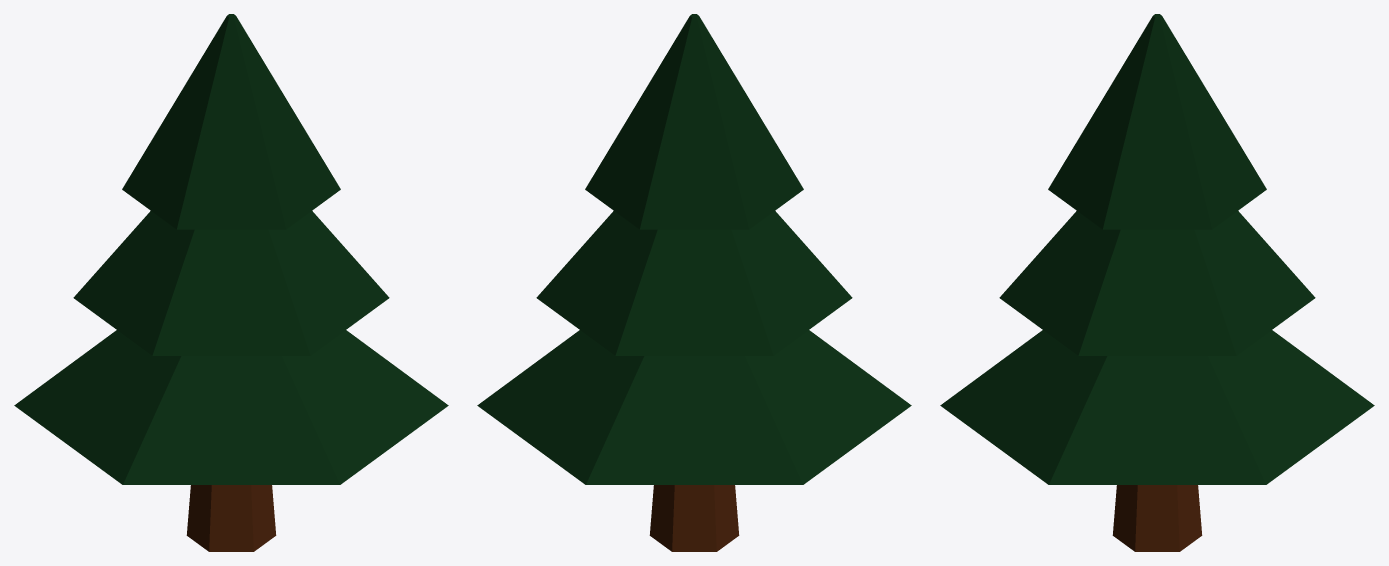
File: pine_tree.obj
The picture shows the model from 3 angles, left to right: view 1: azimuth 30°, elevation 25°; view 2: azimuth 150°, elevation 25°; view 3: azimuth 270°, elevation 25°; orthographic projection.
Parts seen in each view (by area): view 1: Cylinder_Cylinder_Leaves, Cylinder_Cylinder_Trunk; view 2: Cylinder_Cylinder_Leaves, Cylinder_Cylinder_Trunk; view 3: Cylinder_Cylinder_Leaves, Cylinder_Cylinder_Trunk.
Boxes of the visible parts, box(x1,y1,x2,y2) form: Cylinder_Cylinder_Leaves: box(14, 14, 448, 484); Cylinder_Cylinder_Trunk: box(186, 485, 276, 551); Cylinder_Cylinder_Leaves: box(477, 14, 911, 484); Cylinder_Cylinder_Trunk: box(649, 485, 739, 551); Cylinder_Cylinder_Leaves: box(940, 14, 1374, 484); Cylinder_Cylinder_Trunk: box(1112, 485, 1202, 551).
Bounding box in the file's own units: 4.95 × 7.55 × 5.72.
